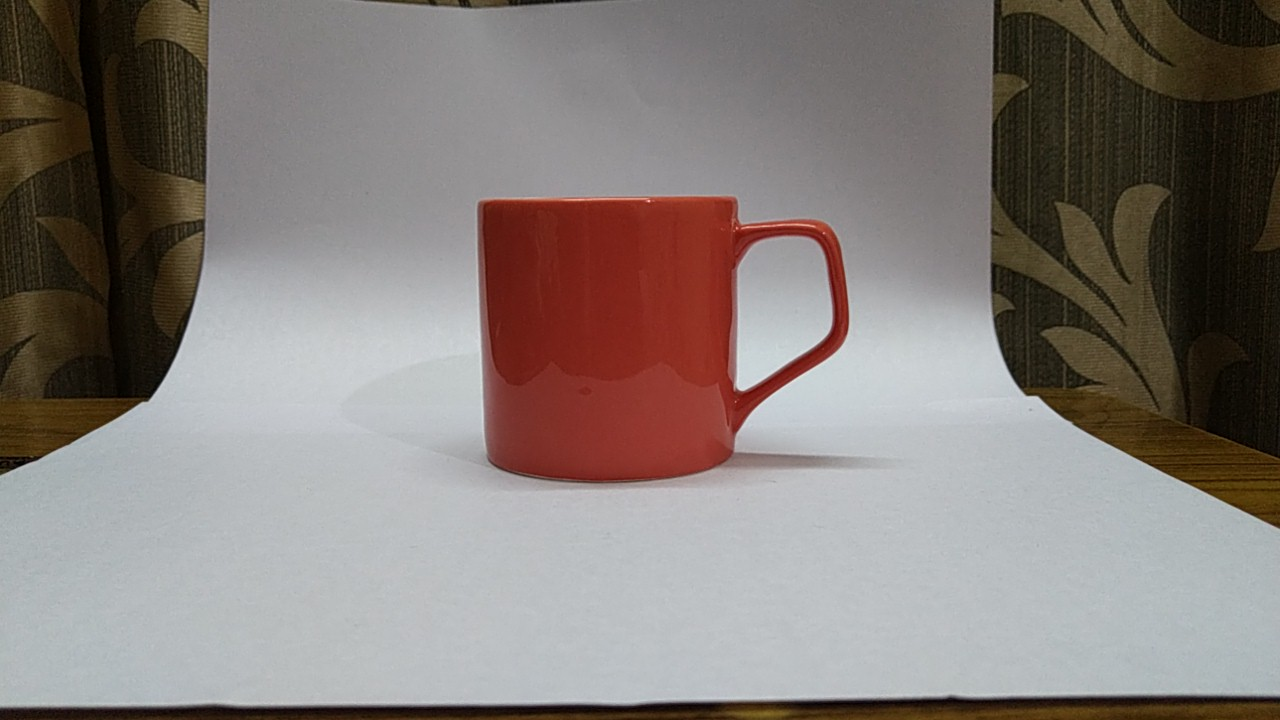cup: (459, 182, 861, 494)
